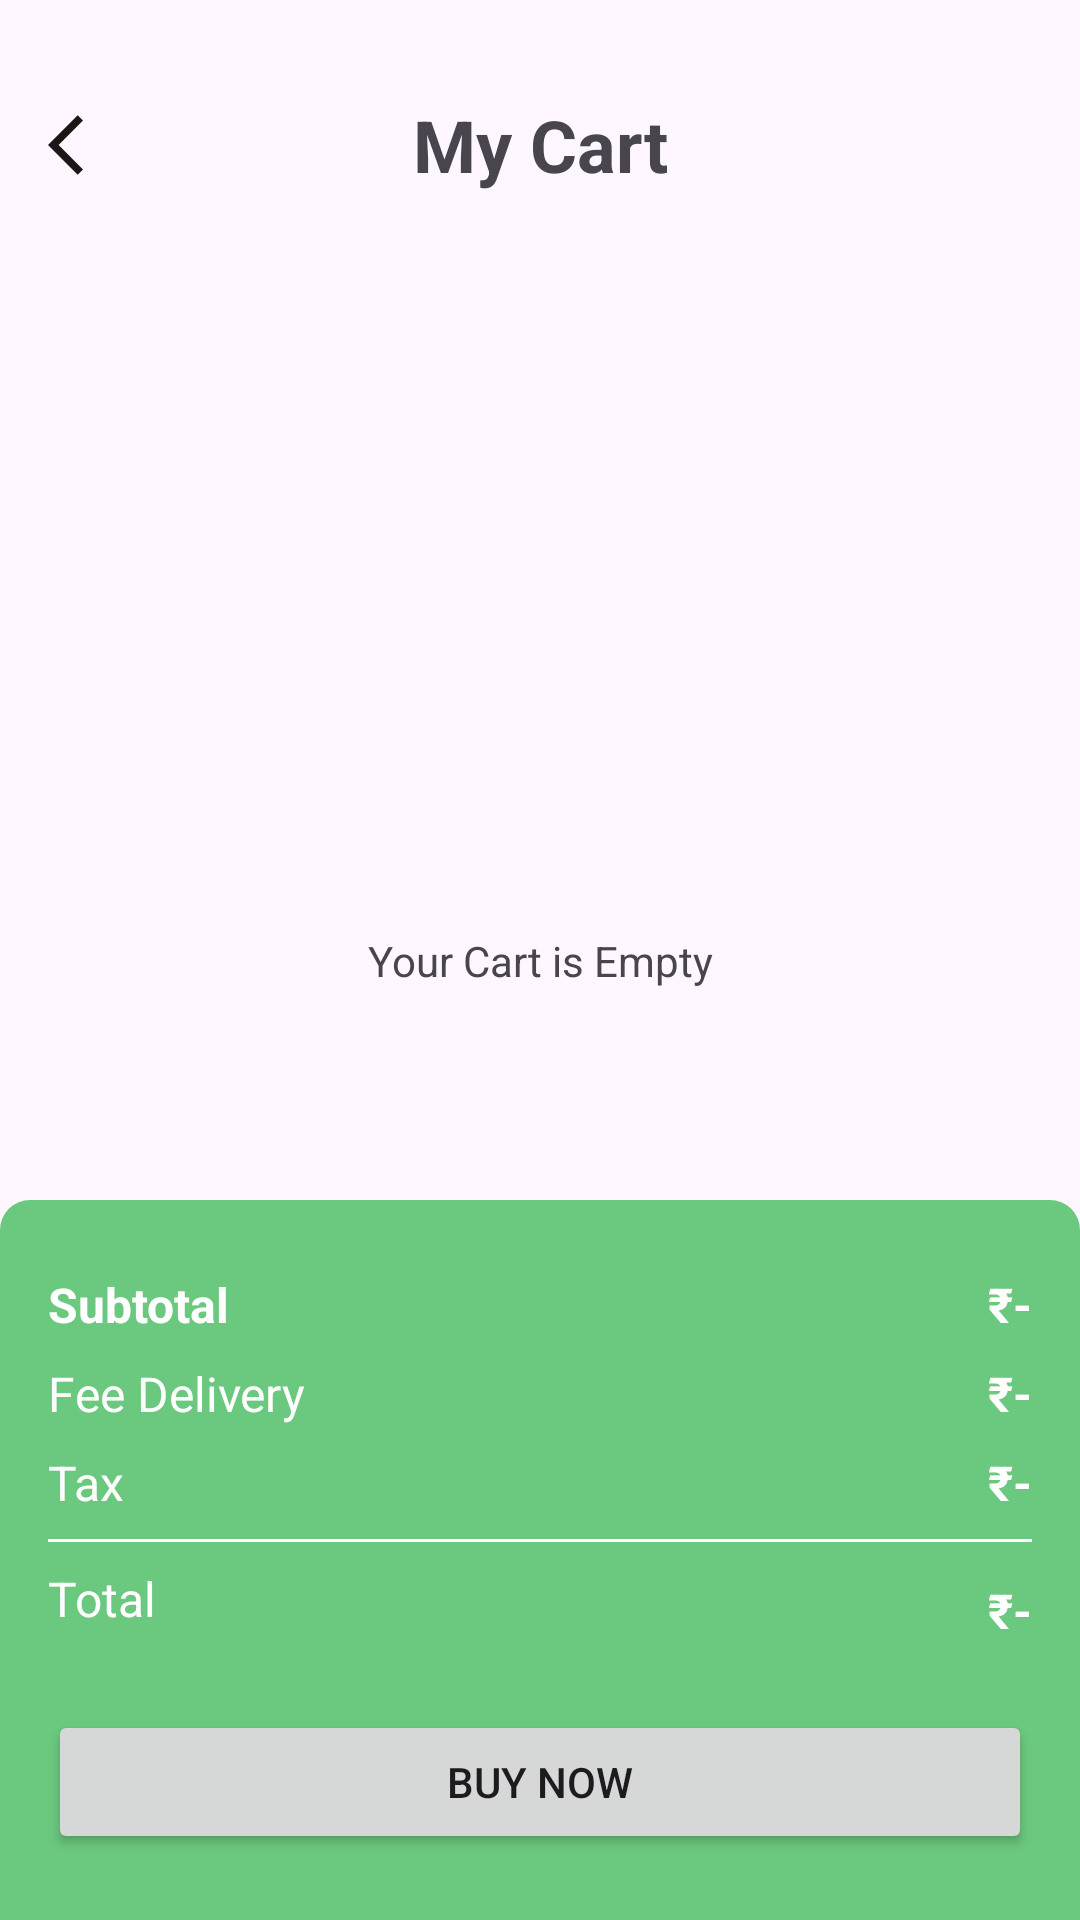

Where to tap for icons on this 1080x1920 app screen, as [x,y]:
back: [65,145]
